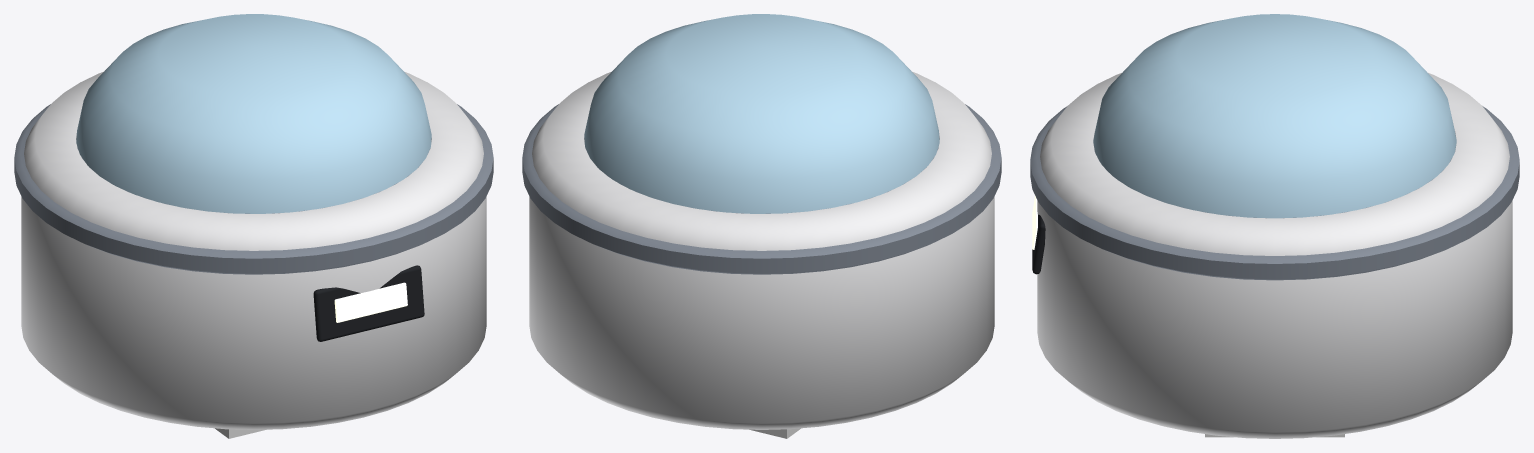
Rendered from Centrifuge.fbx.
3 renders of one model, left to right at view 1: azimuth 30°, elevation 25°; view 2: azimuth 150°, elevation 25°; view 3: azimuth 270°, elevation 25°, orthographic. The views are drawn at different scales.
Visible parts, largest first — view 1: Body__White, Body__Glass, Body__Steel, Body__Black, PanelLed__NeonGreen; view 2: Body__White, Body__Glass, Body__Steel; view 3: Body__White, Body__Glass, Body__Steel, Body__Black.
Part boxes in pixels (<box>): Body__White: <box>21,71,486,429</box>; Body__Glass: <box>76,14,431,213</box>; Body__Steel: <box>14,104,493,274</box>; Body__Black: <box>313,265,424,341</box>; PanelLed__NeonGreen: <box>334,282,407,322</box>; Body__White: <box>529,71,994,429</box>; Body__Glass: <box>584,14,939,213</box>; Body__Steel: <box>522,104,1001,274</box>; Body__White: <box>1037,73,1512,438</box>; Body__Glass: <box>1093,14,1456,218</box>; Body__Steel: <box>1030,106,1519,280</box>; Body__Black: <box>1032,214,1045,274</box>.
Bounding box in the file's own units: 3.5 × 2.84 × 3.5.
